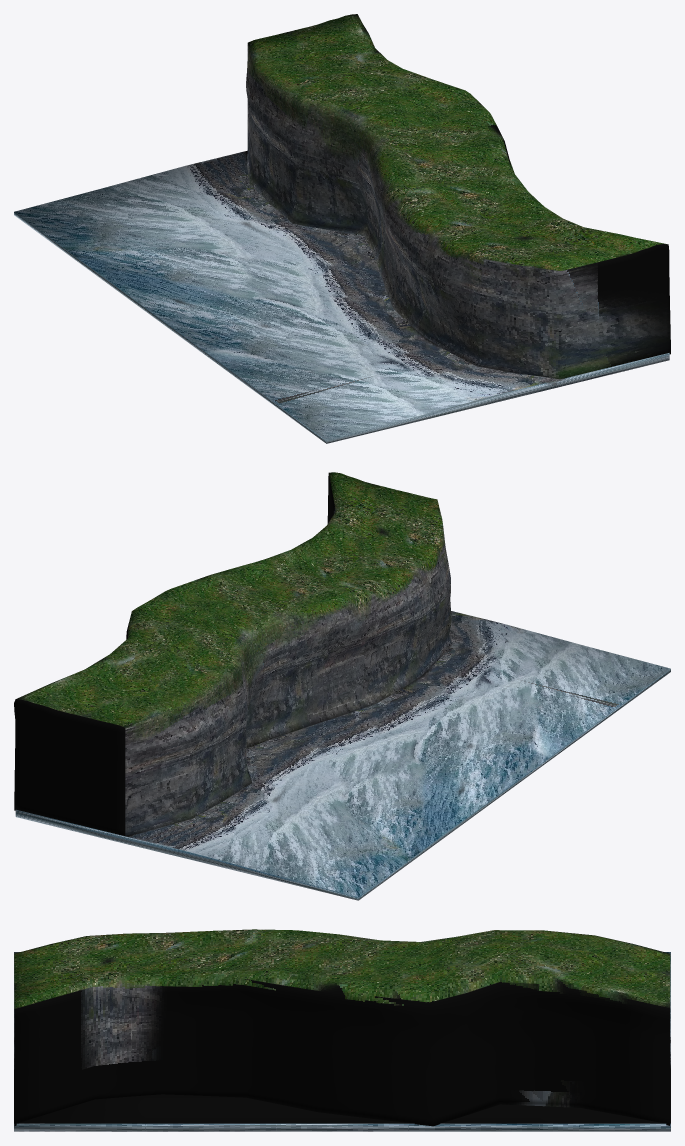
File: MoherCliffs.glb
The picture shows the model from 3 angles, top to bottom: view 1: azimuth 30°, elevation 25°; view 2: azimuth 150°, elevation 25°; view 3: azimuth 270°, elevation 25°; orthographic projection. The views are drawn at different scales.
Visible parts, largest first — view 1: MoherCliffs-col, BeachFloor-col; view 2: MoherCliffs-col, BeachFloor-col; view 3: MoherCliffs-col, BeachFloor-col.
Boxes of the visible parts, x1,y1,x2,y2 form: MoherCliffs-col: [246, 14, 670, 379]; BeachFloor-col: [14, 150, 669, 443]; MoherCliffs-col: [14, 472, 452, 835]; BeachFloor-col: [15, 611, 670, 900]; MoherCliffs-col: [14, 929, 670, 1126]; BeachFloor-col: [14, 952, 670, 1131].
Size of the model in its own units: 107 by 39.73 by 167.
Materials: 2 (2 with a texture image).
